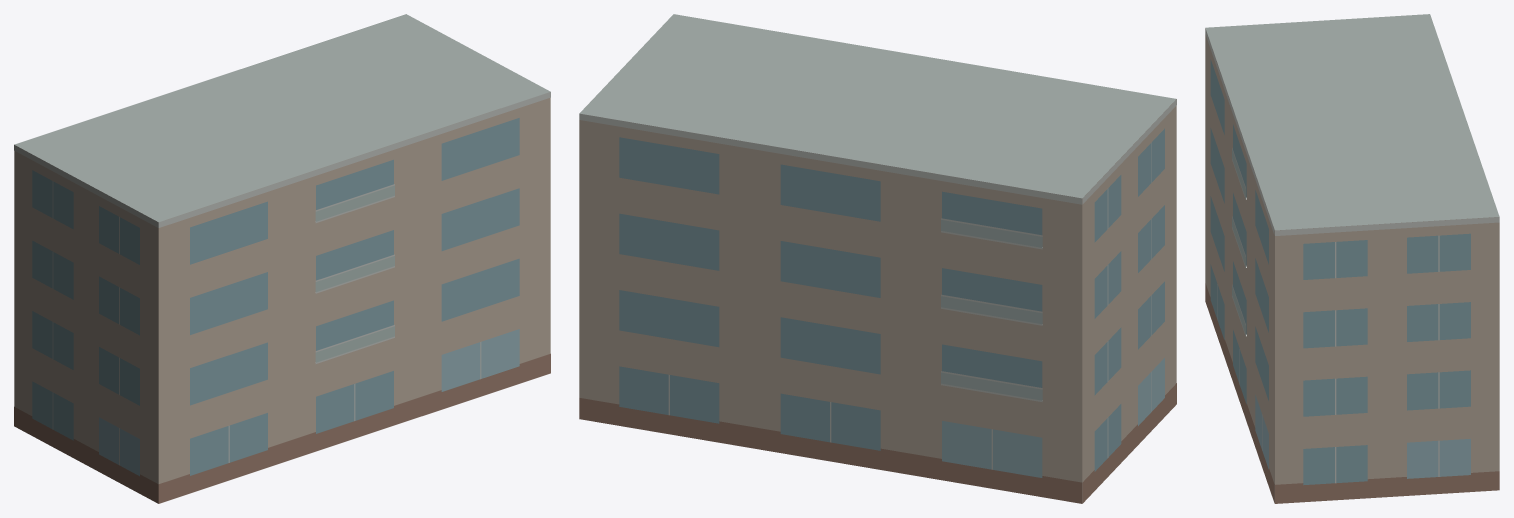
File: survey-upis-33031457.glb
The picture shows the model from 3 angles, left to right: view 1: azimuth 30°, elevation 25°; view 2: azimuth 150°, elevation 25°; view 3: azimuth 270°, elevation 25°; orthographic projection. The views are drawn at different scales.
Visible parts, largest first — view 1: survey-upis-33031457.tmp; view 2: survey-upis-33031457.tmp; view 3: survey-upis-33031457.tmp.
Boxes of the visible parts, x1,y1,x2,y2 form: survey-upis-33031457.tmp: (14, 14, 550, 503); survey-upis-33031457.tmp: (579, 14, 1176, 503); survey-upis-33031457.tmp: (1205, 14, 1499, 503).
Bounding box in the file's own units: 19.87 × 11.7 × 11.42.
